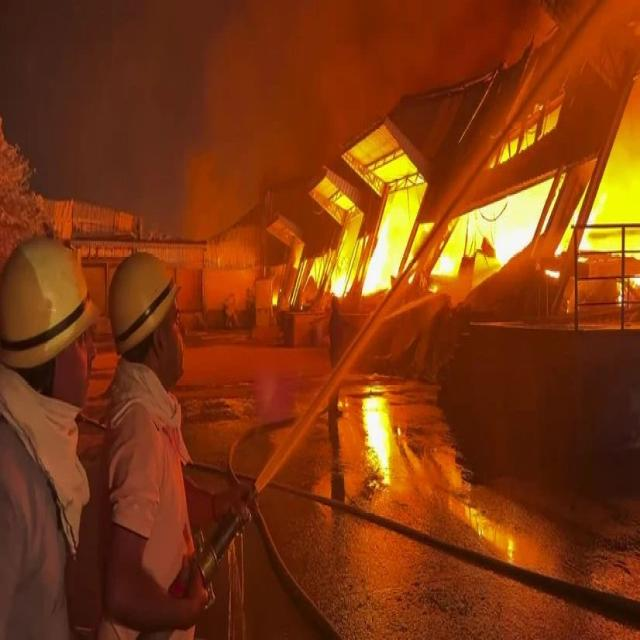fire: (361, 387, 388, 483), (360, 210, 388, 294), (492, 212, 536, 261)
